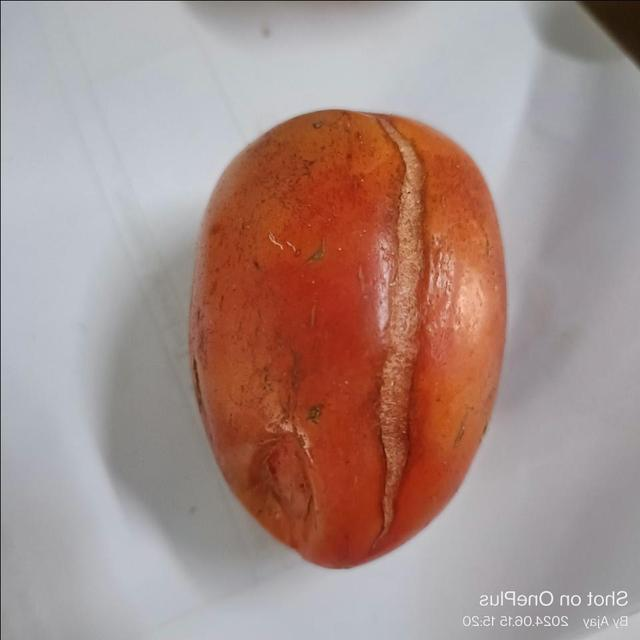Cracking Fruit: (111, 207, 390, 504)
